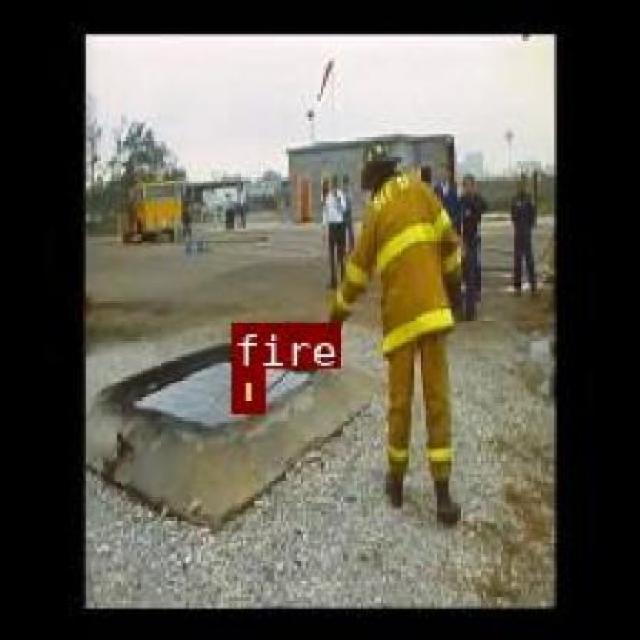Fire: (230, 366, 261, 411)
